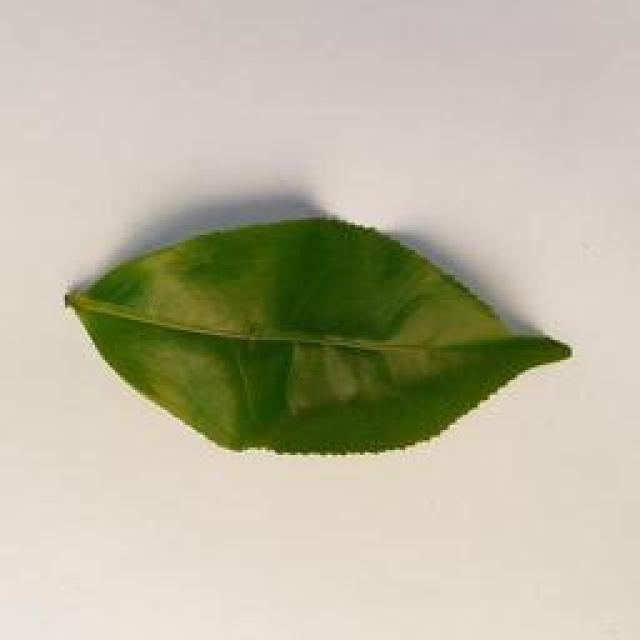Healthy: (56, 212, 570, 459)
